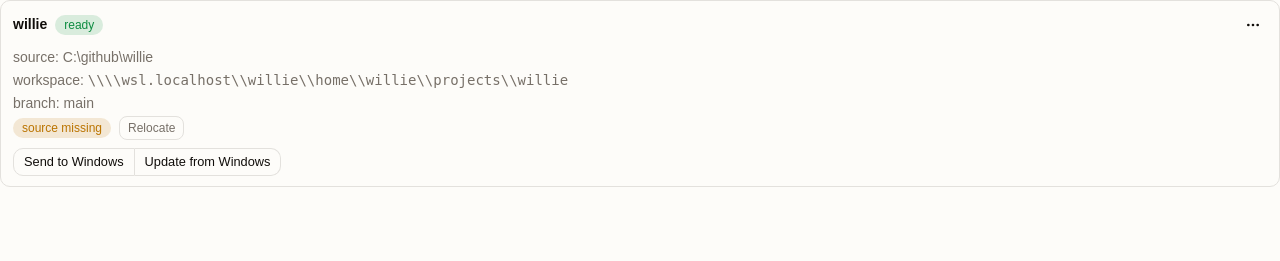
Test: ProjectRow › offers Relocate source only while the source is missing
Click the button named "More actions".
click(1253, 25)  # box x1=1239 y1=11 x2=1267 y2=39
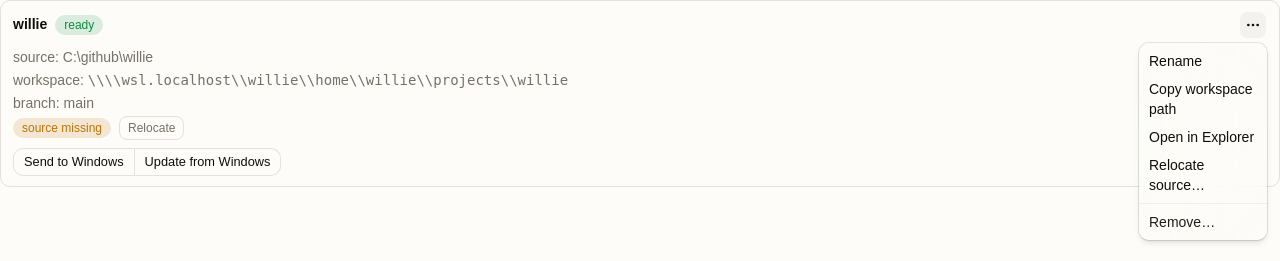
Expected: the text "source missing" is shown, x1=13 y1=118 x2=111 y2=138
Expected: the menu item "Relocate source…" is shown, x1=1149 y1=157 x2=1205 y2=193
